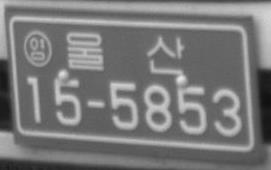-: (85, 97, 107, 111)
1: (23, 75, 46, 123)
3: (212, 87, 242, 138)
5: (175, 83, 207, 136), (108, 80, 139, 131), (53, 76, 82, 127)
8: (143, 83, 173, 133)
영: (23, 29, 52, 68)
울산_D: (66, 30, 185, 75)
